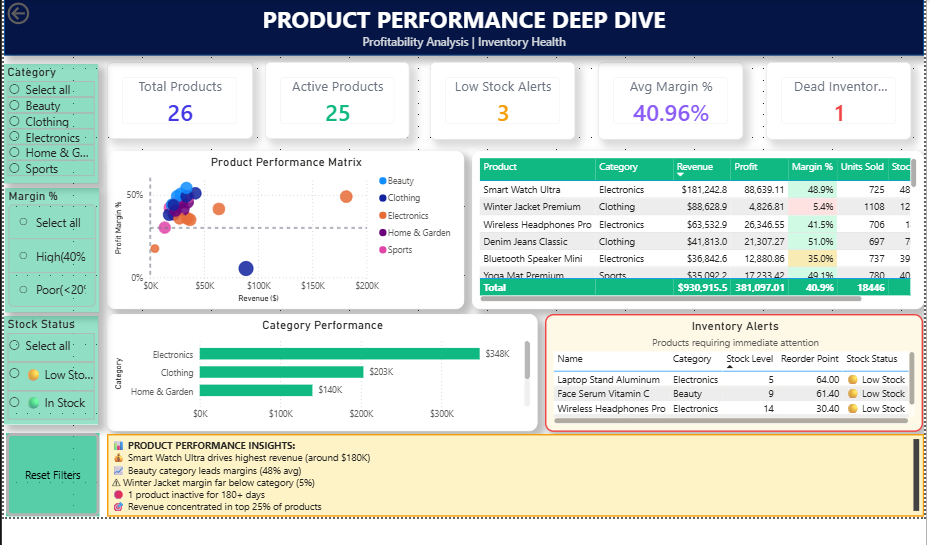

The dashboard page shown, as its layout file describes it:
{"tool":"powerbi","page":{"name":"Product Performance","canvas":[1280,720],"ordinal":1},"visuals":[{"type":"cardVisual","fields":{"Data":["Measures (3).Avg_Product_Margin"]},"box":[826.7,87.3,202,107.6],"z":0},{"type":"cardVisual","fields":{"Data":["Measures (3).Total_Products"]},"box":[142.9,87.1,202.9,107.1],"z":1000},{"type":"shape","box":[0,0,1280,78.5],"z":2000},{"type":"textbox","box":[0,0,1280,78.3],"z":3000},{"type":"cardVisual","fields":{"Data":["Measures (3).Active_Products"]},"box":[362.9,87.1,201.4,107.1],"z":4000},{"type":"cardVisual","fields":{"Data":["Measures (3).Low_Stock_Products"]},"box":[593.4,87.3,202,107.6],"z":5000},{"type":"cardVisual","fields":{"Data":["Measures (3).Dead_Inventory_Count"]},"box":[1060.1,87.3,202,107.6],"z":6000},{"type":"scatterChart","title":"Product Performance Matrix","fields":{"X":["Measures (3).Total_Revenue"],"Y":["Measures (3).Profit_Margin_Pct"],"Size":["Measures (3).Products_Sold"],"Series":["products.category"],"Category":["products.name"]},"box":[142.9,211.4,497.1,220],"z":7000},{"type":"tableEx","fields":{"Values":["products.name","products.category","Measures (3).Total_Revenue","Measures (3).Total_Profit","Measures (3).Profit_Margin_Pct","Measures (3).Products_Sold","products.StockLevel","Measures (3).Days_Since_Last_Sale"]},"box":[651.4,211.4,628.6,220],"z":8000},{"type":"clusteredBarChart","title":"Category Performance","fields":{"Category":["products.category"],"Y":["Measures (3).Total_Revenue"]},"box":[142.7,438,598.6,162.9],"z":9000},{"type":"tableEx","title":"Inventory Alerts","fields":{"Values":["products.name","products.category","products.StockLevel","products.ReorderPoint","Measures (3).Stock_Status"]},"box":[752.7,438,525.7,164.3],"z":10000},{"type":"actionButton","box":[0,0,100,40],"z":11000},{"type":"listSlicer","title":"Category","fields":{"Values":["products.category"]},"box":[0,90,131.4,165.7],"z":12000},{"type":"advancedSlicerVisual","title":"Margin %","fields":{"Values":["products.Margin_Category"]},"box":[1.4,262.9,131.4,172.9],"z":13000},{"type":"listSlicer","title":"Stock Status","fields":{"Values":["products.Stock_Status_Column"]},"box":[0,441.4,131.4,151.4],"z":14000},{"type":"actionButton","title":"Reset Filter","box":[2.9,604.3,130,115.7],"z":15000},{"type":"textbox","box":[143.3,605.2,1136.7,115.5],"z":16000}]}

Visuals, with their boxes on the page's 1280x720 design canvas (x1, y1, x2, y2). These are canvas units, not pixel positions in the 930x545 screenshot, which may show the page scaled, cropped or inside an application window:
cardVisual - Measures (3).Avg_Product_Margin: <region>827, 87, 1029, 195</region>
cardVisual - Measures (3).Total_Products: <region>143, 87, 346, 194</region>
shape: <region>0, 0, 1280, 78</region>
textbox: <region>0, 0, 1280, 78</region>
cardVisual - Measures (3).Active_Products: <region>363, 87, 564, 194</region>
cardVisual - Measures (3).Low_Stock_Products: <region>593, 87, 795, 195</region>
cardVisual - Measures (3).Dead_Inventory_Count: <region>1060, 87, 1262, 195</region>
"Product Performance Matrix" scatterChart: <region>143, 211, 640, 431</region>
tableEx - products.name x products.category: <region>651, 211, 1280, 431</region>
"Category Performance" clusteredBarChart: <region>143, 438, 741, 601</region>
"Inventory Alerts" tableEx: <region>753, 438, 1278, 602</region>
actionButton: <region>0, 0, 100, 40</region>
"Category" listSlicer: <region>0, 90, 131, 256</region>
"Margin %" advancedSlicerVisual: <region>1, 263, 133, 436</region>
"Stock Status" listSlicer: <region>0, 441, 131, 593</region>
"Reset Filter" actionButton: <region>3, 604, 133, 720</region>
textbox: <region>143, 605, 1280, 721</region>
